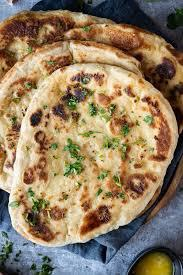Naan: (0, 15, 183, 251)
